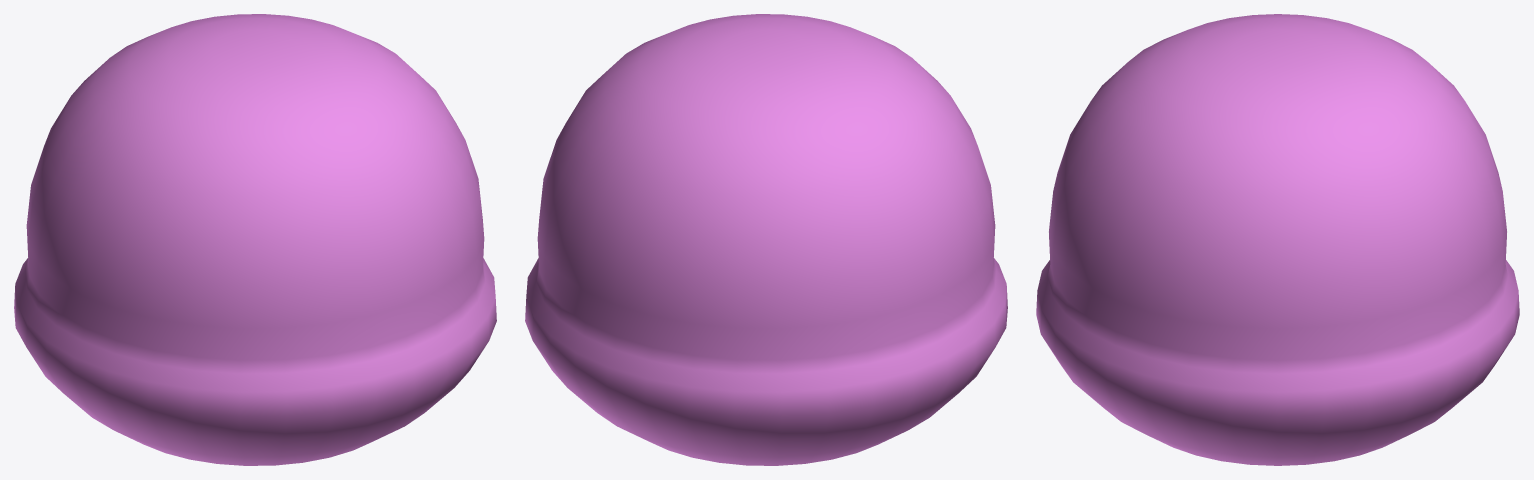
Rendered from BolaFresa.fbx.
3 renders of one model, left to right at view 1: azimuth 30°, elevation 25°; view 2: azimuth 150°, elevation 25°; view 3: azimuth 270°, elevation 25°, orthographic.
Parts seen in each view (by area): view 1: Bolafresa; view 2: Bolafresa; view 3: Bolafresa.
Part boxes in pixels (left/top/right/bottom): Bolafresa: left=14, top=14, right=496, bottom=465; Bolafresa: left=525, top=14, right=1007, bottom=465; Bolafresa: left=1036, top=14, right=1519, bottom=465.
Bounding box in the file's own units: 305 × 270 × 305.
